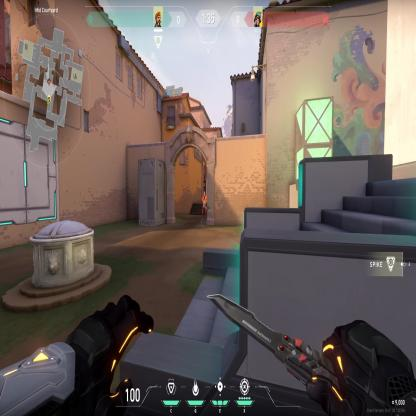enemy: (201, 190, 207, 224)
